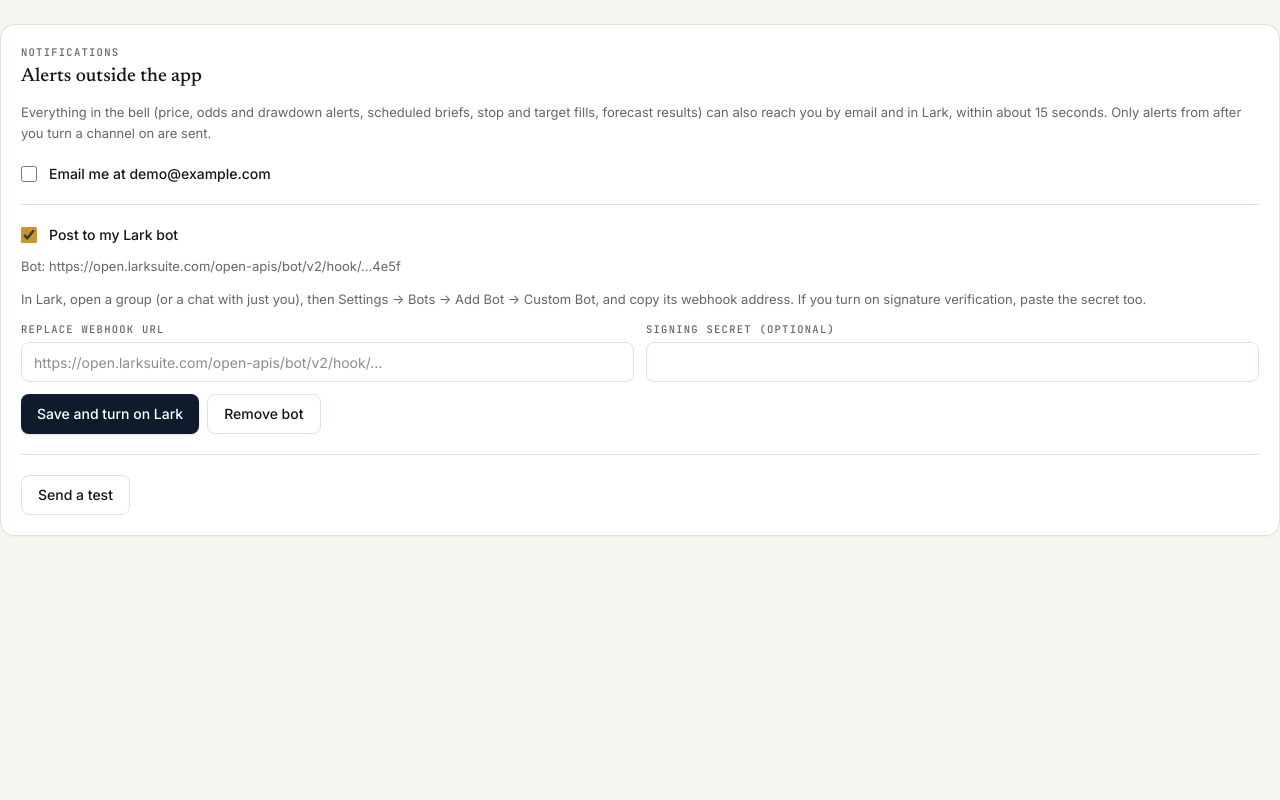
Test: Account notifications › removes the bot and shows server errors
Step 1. Click the checkbox labelled "Post to my Lark bot" → point(29, 235), box left=21, top=227, right=37, bottom=243
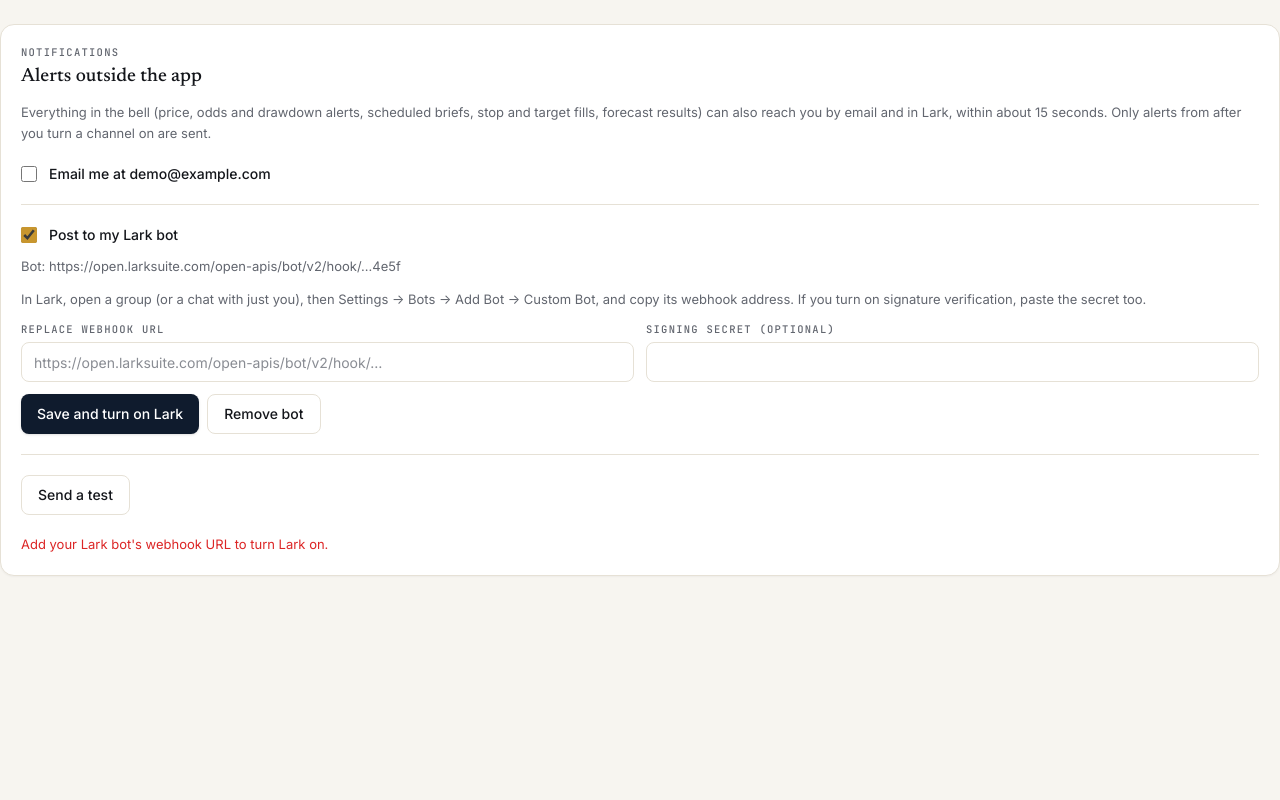
Expected: the message reads "Add your Lark bot's webhook URL to turn Lark on.", left=21, top=536, right=328, bottom=552
Step 2. Click the button "Remove bot" → point(264, 414), box left=207, top=394, right=320, bottom=434
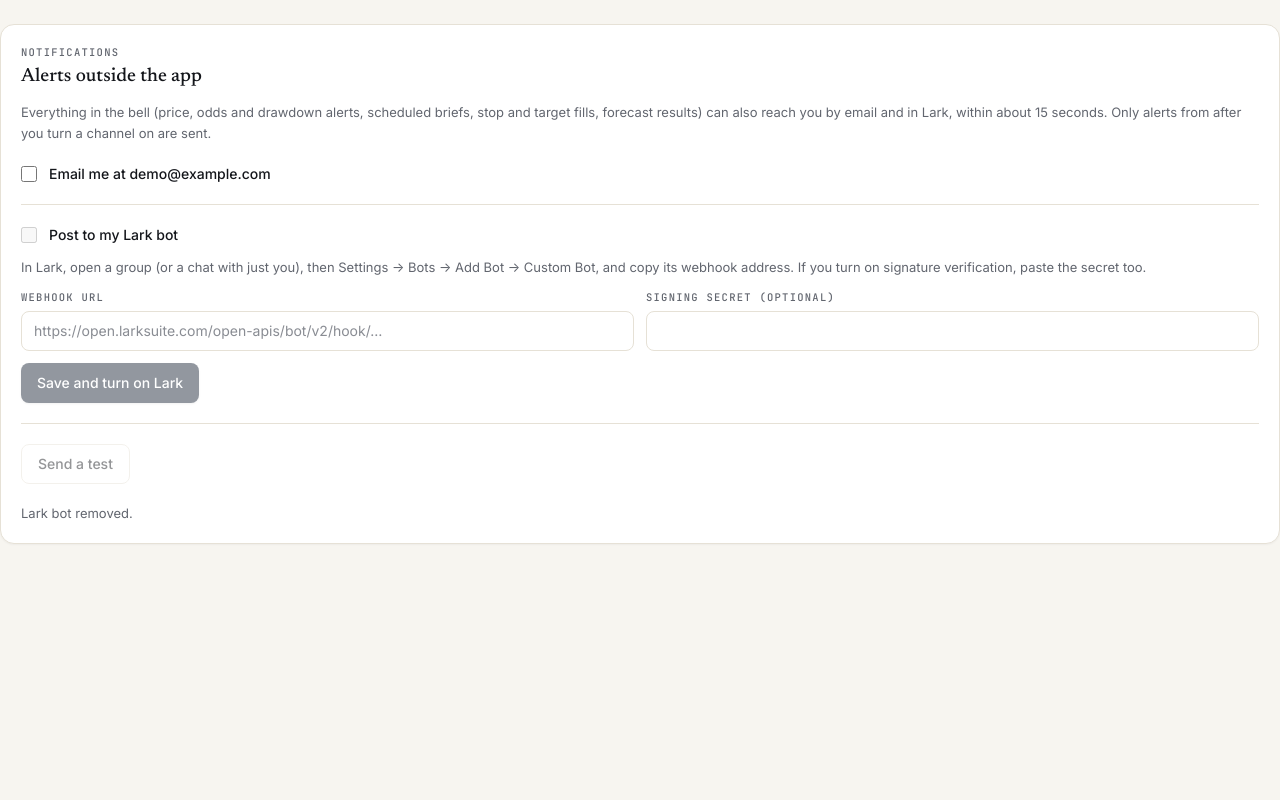
Expected: the text "Lark bot removed." is shown, left=21, top=505, right=133, bottom=521
Expected: the button "Remove bot" is gone
